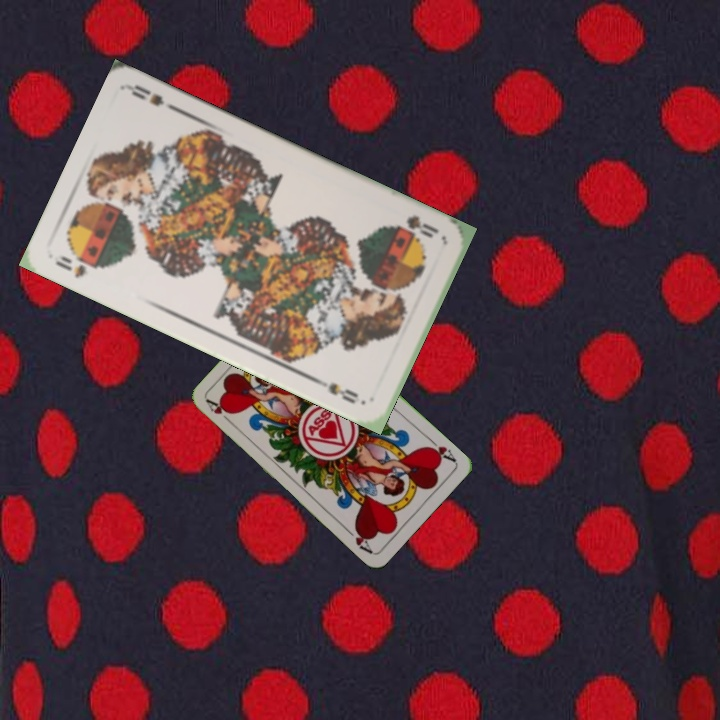HA: (422, 434, 458, 465), (203, 396, 236, 428)
SO: (391, 211, 442, 241), (51, 251, 89, 280)
